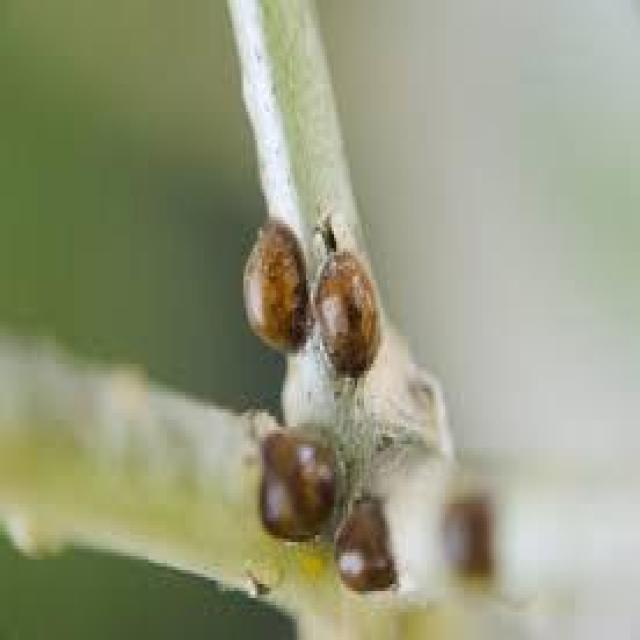BlackScale: (255, 422, 338, 546), (243, 217, 310, 355), (315, 250, 378, 382), (336, 496, 402, 596)
